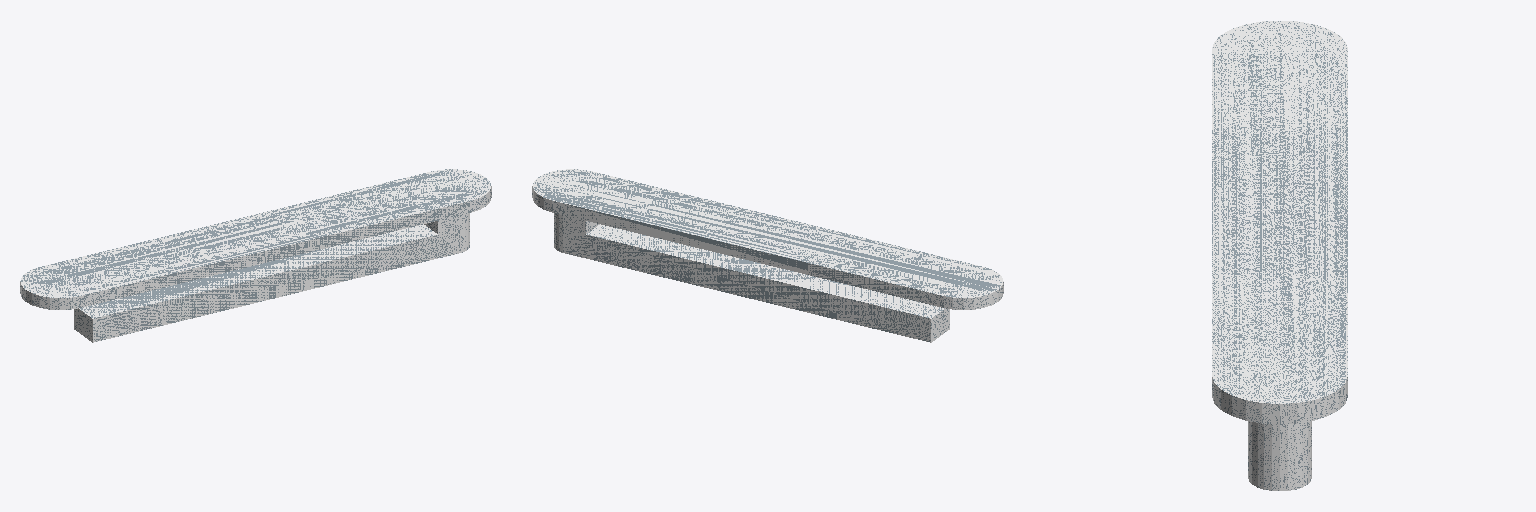
The robot description file, URDF, robot "window":
<?xml version="1.0" ?>
<robot name="window">
	<link name="base"/>
	<link name="link_0">
		<visual name="out-frame">
			<origin xyz="0 0 0"/>
			<geometry>
				<mesh filename="texture_dae/untitled.dae" scale="0.5 0.5 0.5"/>
			</geometry>
		</visual>
		<collision>
			<origin xyz="0 0 0"/>
			<geometry>
				<mesh filename="texture_dae/untitled.dae" scale="0.5 0.5 0.5"/>
			</geometry>
		</collision>
	</link>
	<joint name="joint_0" type="fixed">
		<origin rpy="1.570796326794897 0 -1.570796326794897" xyz="0 0 0"/>
		<child link="link_0"/>
		<parent link="base"/>
	</joint>
	<link name="link_1">
		<visual name="surf-board">
			<origin xyz="0.30546158315543975 -0.5833843402065071 0"/>
			<geometry>
				<mesh filename="texture_dae/untitled1.dae" scale="0.5 0.5 0.5"/>
			</geometry>
		</visual>
		<collision>
			<origin xyz="0.30546158315543975 -0.5833843402065071 0"/>
			<geometry>
				<mesh filename="texture_dae/untitled1.dae" scale="0.5 0.5 0.5"/>
			</geometry>
		</collision>
	</link>
	<joint name="joint_1" type="revolute">
		<origin xyz="-0.30546158315543975 0.5833843402065071 0"/>
		<axis xyz="0 -1 0"/>
		<child link="link_1"/>
		<parent link="link_0"/>
		<limit lower="0" upper="1.5079644737231006"/>
	</joint>
	<link name="link_2">
		<visual name="handle">
			<origin xyz="0 0 0"/>
			<geometry>
				<mesh filename="texture_dae/9969528-handle.dae" scale="0.9125751337059622 0.9125751337059622 0.9125751337059622"/>
			</geometry>
		</visual>
		<collision>
			<origin xyz="0 0 0"/>
			<geometry>
				<mesh filename="texture_dae/9969528-handle.dae" scale="0.9125751337059622 0.9125751337059622 0.9125751337059622"/>
			</geometry>
		</collision>
	</link>
	<joint name="joint_2" type="revolute">
		<origin xyz="0 0 0"/>
		<child link="link_2"/>
		<parent link="link_3"/>
		<axis xyz="0 0 1"/>
		<limit lower="0" upper="1.5079644737231006"/>
	</joint>
	<link name="link_3">
		<visual name="lock">
			<origin xyz="0 0 0"/>
			<geometry>
				<mesh filename="texture_dae/9969528-lock.dae" scale="0.9125751337059622 0.9125751337059622 0.9125751337059622"/>
			</geometry>
		</visual>
		<collision>
			<origin xyz="0 0 0"/>
			<geometry>
				<mesh filename="texture_dae/9969528-lock.dae" scale="0.9125751337059622 0.9125751337059622 0.9125751337059622"/>
			</geometry>
		</collision>
	</link>
	<joint name="joint_3" type="fixed">
		<origin xyz="0.57960002006893 -0.5833843402065071 0.028971898873196622"/>
		<child link="link_3"/>
		<parent link="link_1"/>
	</joint>
</robot>

--- Facts derived from the render (not from the file) ---
3 views of the same robot in one strip: view 1: azimuth 30°, elevation 25°; view 2: azimuth 150°, elevation 25°; view 3: azimuth 270°, elevation 25° (orthographic).
Model window with 5 links and 4 joints (2 revolute, 2 fixed), rooted at base, posed all joints at 0.
Links seen in each view (by area): view 1: link_3, link_2; view 2: link_3, link_2; view 3: link_3, link_2.
Boxes of the visible links, x1=… form: link_3: x1=20, y1=169, x2=491, y2=309; link_2: x1=74, y1=213, x2=469, y2=342; link_3: x1=532, y1=169, x2=1003, y2=309; link_2: x1=554, y1=213, x2=949, y2=342; link_3: x1=1212, y1=21, x2=1347, y2=424; link_2: x1=1248, y1=421, x2=1311, y2=490.
Bounding box of the posed robot: 0.1796 × 0.0269 × 0.0225 m (x, y, z).
2 mesh visuals loaded from 4 distinct referenced files (2 Collada DAE); not drawn: 2 (reference not matched to a file when rendering).
